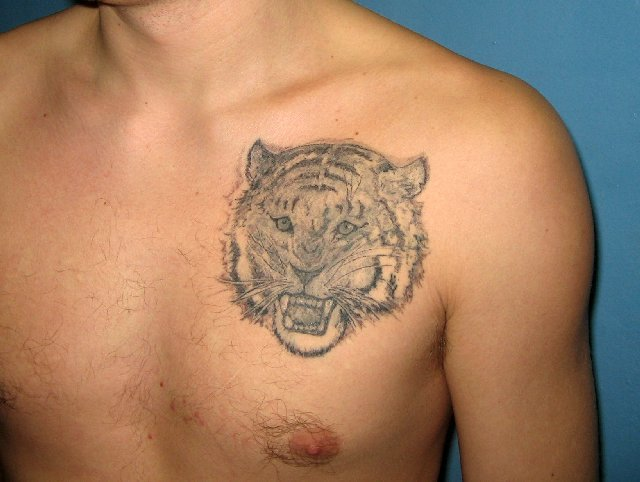tatu5_tigr: (216, 131, 434, 356)
